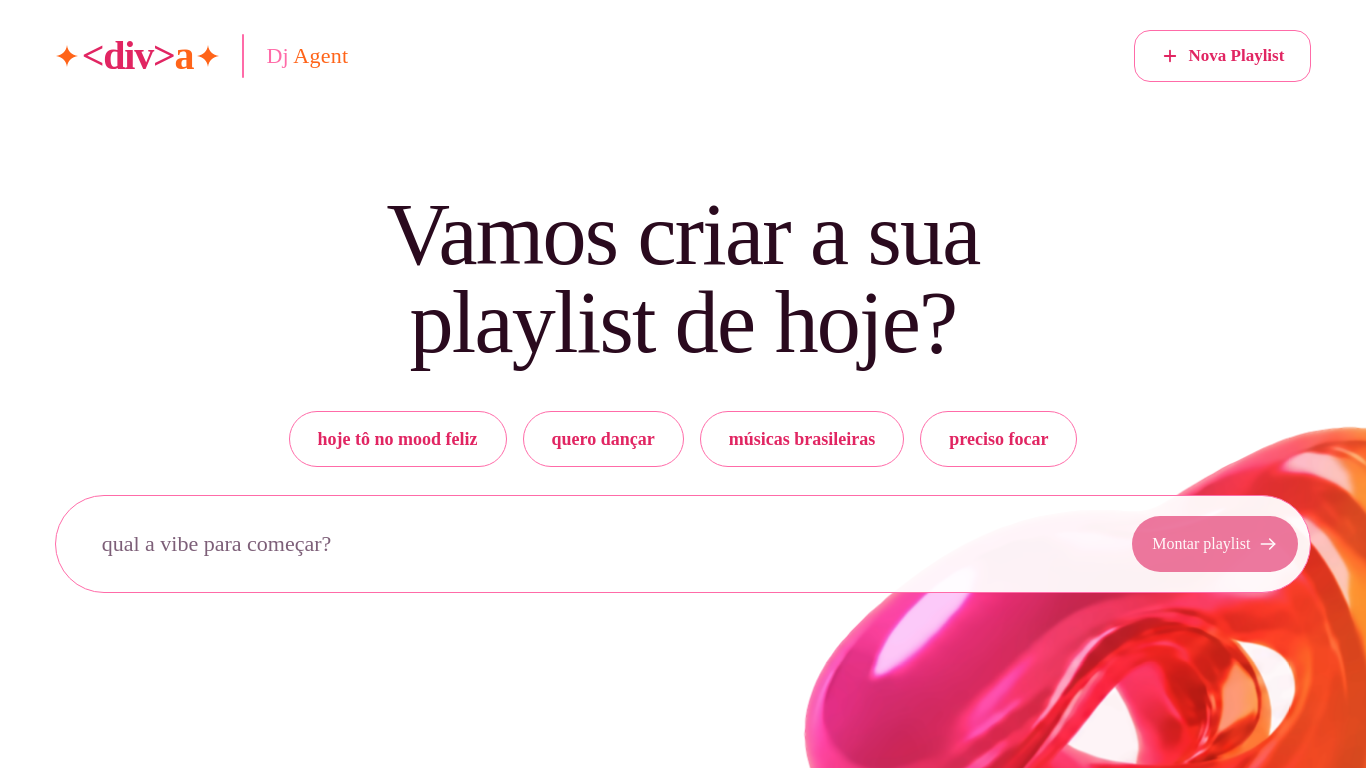
Test case: erro › devolve o pedido ao campo
Type "quero dançar" into the field named "Descreva a vibe da sua playlist". click: (594, 544)
box: [68,508,1120,580]
Then press Enter
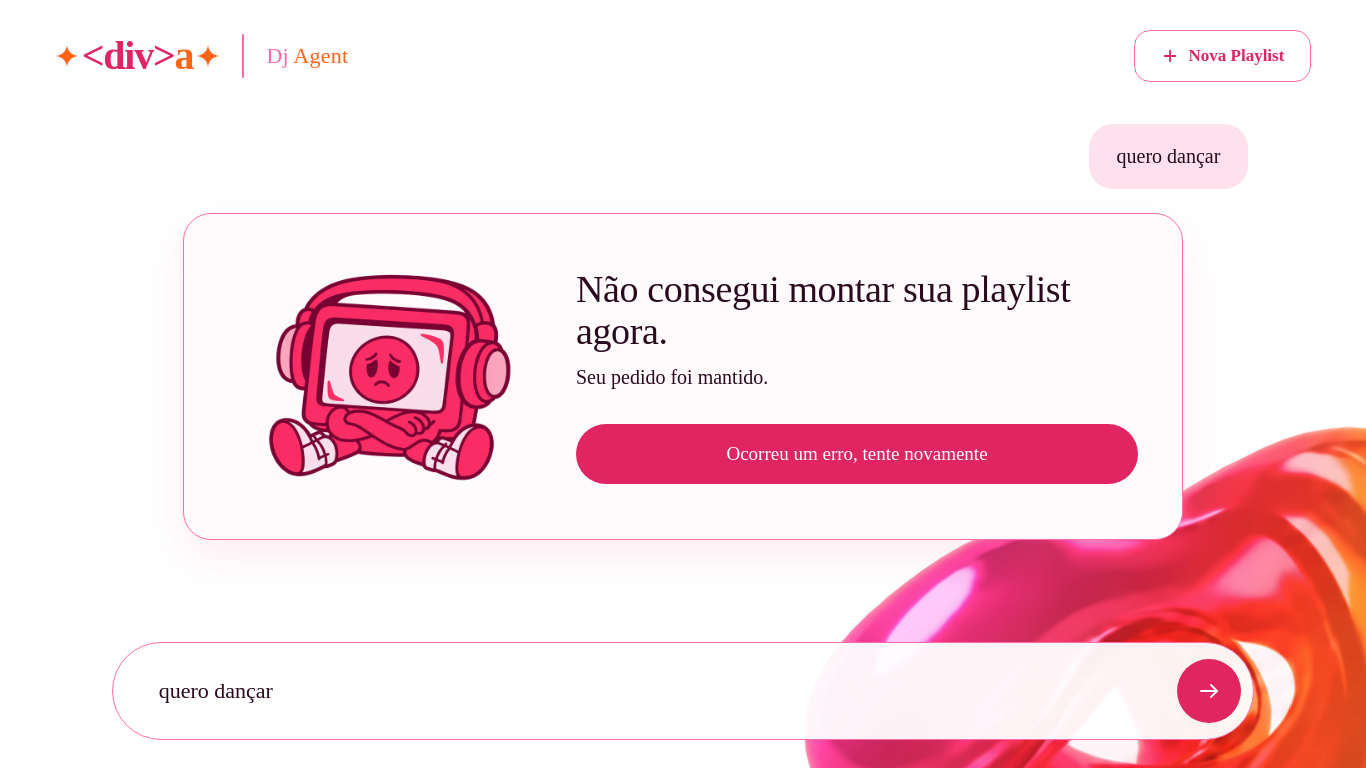
Now the message is shown, box [183,213,1183,540]
Now the field named "Descreva a vibe da sua playlist" holds "quero dançar", box [125,655,1165,727]
